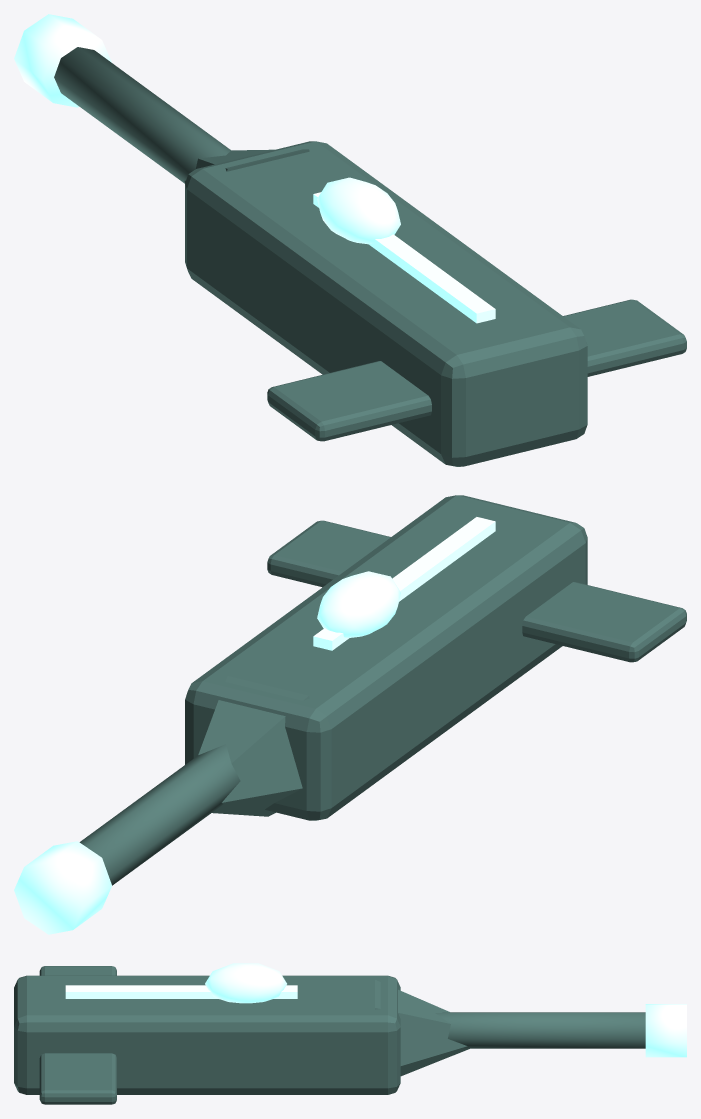
The model's file is sniper.glb.
3 views of the same model, one above another, from view 1: azimuth 30°, elevation 25°; view 2: azimuth 150°, elevation 25°; view 3: azimuth 270°, elevation 25° (orthographic). The views are drawn at different scales.
Visible parts, largest first — view 1: hull, barrel, fin, fin.001, muzzle, scope, rail, nose; view 2: hull, barrel, fin, nose, muzzle, fin.001, scope, rail; view 3: hull, barrel, fin.001, nose, scope, rail, muzzle, fin.
Boxes of the visible parts, left/top/right/bottom form: hull: left=185, top=141, right=587, bottom=466; barrel: left=54, top=47, right=230, bottom=183; fin: left=267, top=361, right=431, bottom=441; fin.001: left=563, top=299, right=686, bottom=376; muzzle: left=14, top=14, right=111, bottom=107; scope: left=317, top=177, right=400, bottom=244; rail: left=313, top=192, right=495, bottom=323; nose: left=184, top=149, right=309, bottom=182; hull: left=185, top=495, right=587, bottom=820; barrel: left=79, top=744, right=240, bottom=885; fin: left=522, top=582, right=686, bottom=662; nose: left=198, top=676, right=309, bottom=816; muzzle: left=14, top=841, right=111, bottom=934; fin.001: left=267, top=520, right=390, bottom=587; scope: left=317, top=571, right=400, bottom=637; rail: left=313, top=517, right=495, bottom=650; hull: left=14, top=975, right=400, bottom=1094; barrel: left=435, top=1012, right=645, bottom=1048; fin.001: left=39, top=1053, right=116, bottom=1104; nose: left=375, top=980, right=469, bottom=1076; scope: left=205, top=963, right=286, bottom=1003; rail: left=65, top=985, right=297, bottom=998; muzzle: left=645, top=1004, right=686, bottom=1057; fin: left=39, top=966, right=116, bottom=975.
Bounding box in the file's own units: 1.18 × 0.52 × 2.61.
